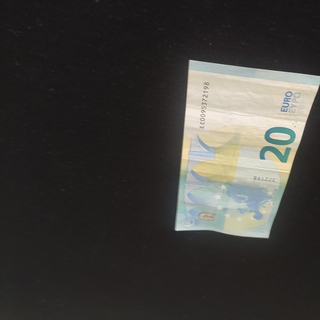20EUROBack: (173, 59, 320, 238)
